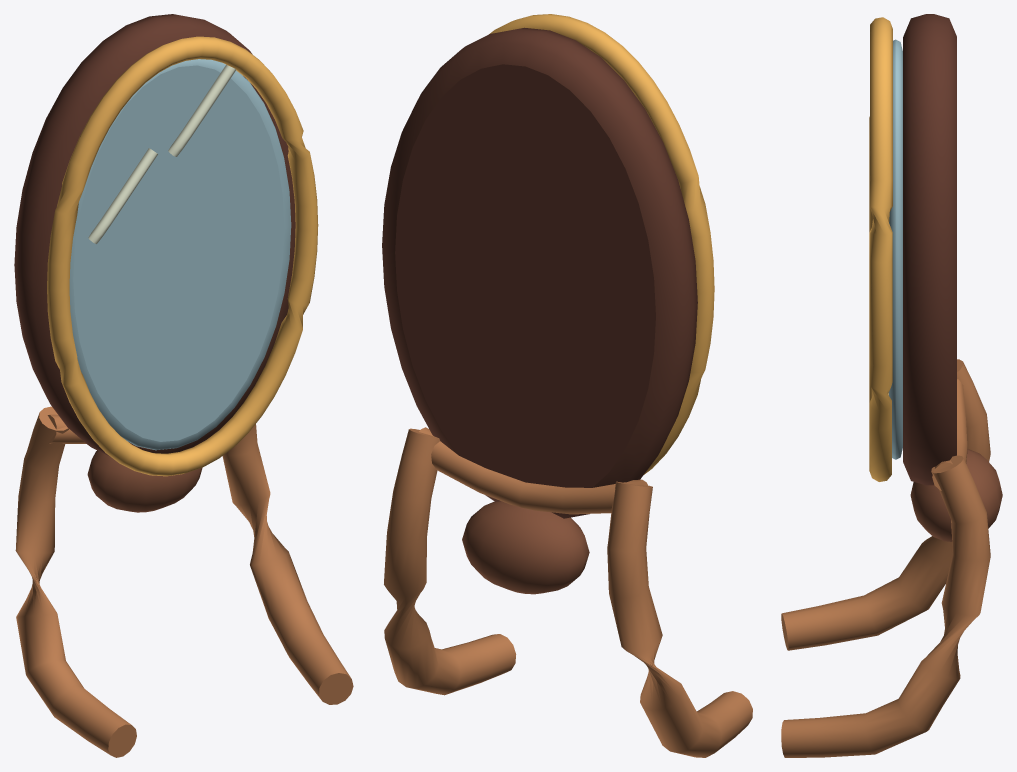
The model's file is atelier_mirror.glb.
3 views of the same model, side by side, from view 1: azimuth 30°, elevation 25°; view 2: azimuth 150°, elevation 25°; view 3: azimuth 270°, elevation 25° (orthographic). The views are drawn at different scales.
Visible parts, largest first — view 1: Espejo de pie; view 2: Espejo de pie; view 3: Espejo de pie.
Boxes of the visible parts, <box> form: Espejo de pie: <box>14,14,353,757</box>; Espejo de pie: <box>382,14,752,757</box>; Espejo de pie: <box>781,14,1002,757</box>.
Size of the model in its own units: 0.6729 by 1.53 by 0.4515.
